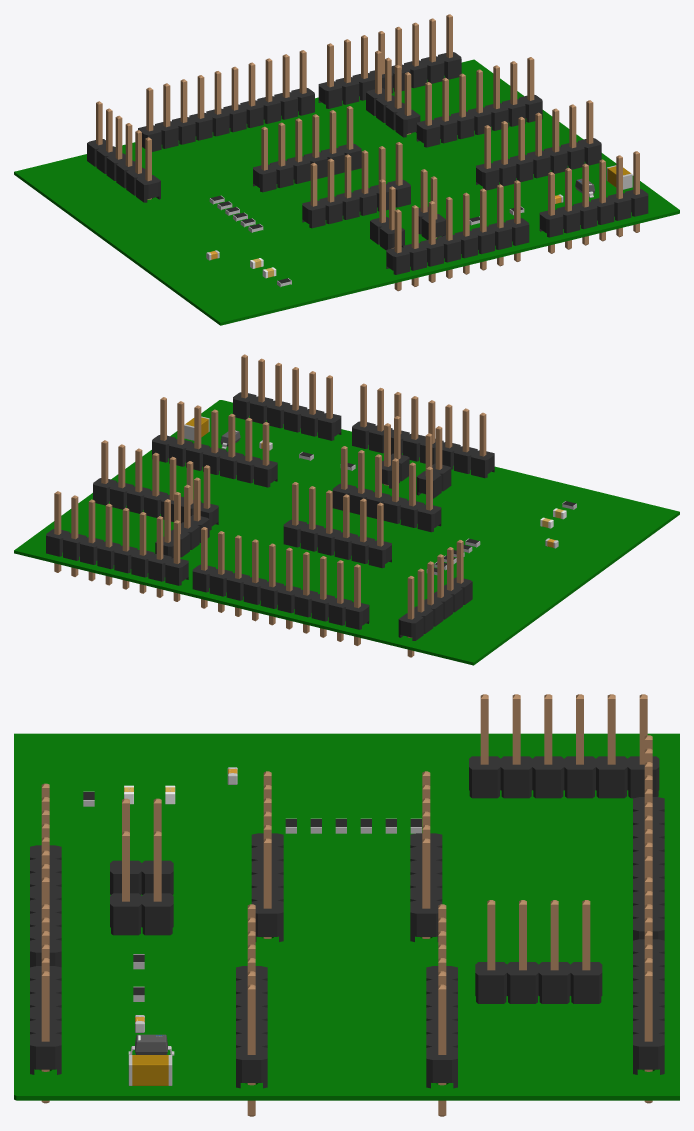
Rendered from imu-shield.glb.
3 views of the same model, one above another, from view 1: azimuth 30°, elevation 25°; view 2: azimuth 150°, elevation 25°; view 3: azimuth 270°, elevation 25° (orthographic). The views are drawn at different scales.
Visible parts, largest first — view 1: Node15, Node1, Node5; view 2: Node15, Node1, Node5; view 3: Node15, Node1, Node5, Node19, Node12, Node4, Node6.
Boxes of the visible parts, box(x1,y1,x2,y2) form: Node15: box(14, 59, 679, 325); Node1: box(87, 52, 648, 274); Node5: box(96, 14, 639, 291); Node15: box(14, 400, 679, 665); Node1: box(46, 392, 494, 640); Node5: box(54, 354, 486, 657); Node15: box(14, 733, 679, 1100); Node1: box(30, 756, 664, 1088); Node5: box(41, 694, 652, 1116); Node19: box(83, 791, 421, 1085); Node12: box(132, 1055, 168, 1085); Node4: box(83, 792, 421, 995); Node6: box(135, 1034, 167, 1054).
Size of what is drawn, in the model's own units: 0.0686 by 0.0115 by 0.0533.
